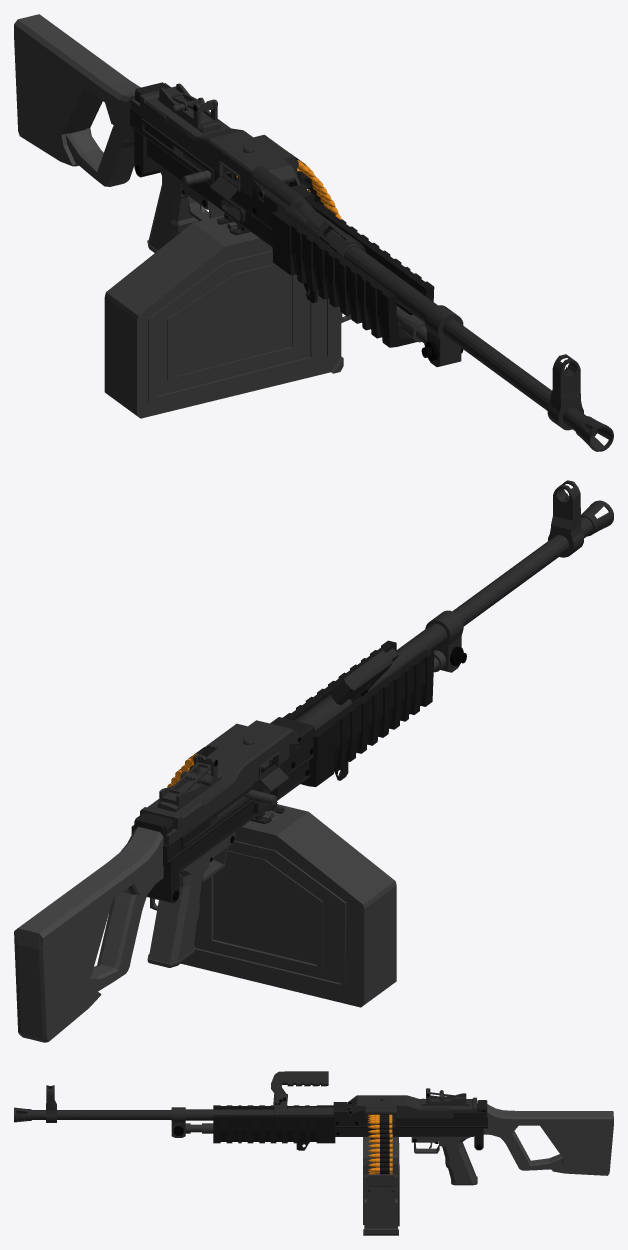
Rendered from qjy88.glb.
The picture shows the model from 3 angles, top to bottom: view 1: azimuth 30°, elevation 25°; view 2: azimuth 150°, elevation 25°; view 3: azimuth 270°, elevation 25°; orthographic projection. The views are drawn at different scales.
Visible parts, largest first — view 1: O_qjy88__C333, O_qjy88__C222, O_qjy88__C444, O_qjy88__C111, O_qjy88__Ce81; view 2: O_qjy88__C333, O_qjy88__C444, O_qjy88__C222, O_qjy88__C111; view 3: O_qjy88__C222, O_qjy88__C444, O_qjy88__C333, O_qjy88__C111, O_qjy88__Ce81, O_qjy88__C000.
Part boxes in pixels (x1,y1,x2,y2): O_qjy88__C333: [104, 83, 426, 418]; O_qjy88__C222: [129, 82, 613, 451]; O_qjy88__C444: [14, 14, 198, 252]; O_qjy88__C111: [271, 153, 434, 347]; O_qjy88__Ce81: [236, 151, 341, 219]; O_qjy88__C333: [140, 650, 446, 1007]; O_qjy88__C444: [14, 826, 214, 1042]; O_qjy88__C222: [131, 480, 613, 903]; O_qjy88__C111: [171, 640, 434, 786]; O_qjy88__C222: [14, 1071, 487, 1191]; O_qjy88__C444: [434, 1104, 613, 1185]; O_qjy88__C333: [185, 1088, 477, 1235]; O_qjy88__C111: [213, 1105, 389, 1174]; O_qjy88__Ce81: [368, 1114, 392, 1174]; O_qjy88__C000: [173, 1093, 484, 1149].
Size of the model in its own units: 0.7226 by 0.8027 by 3.22.
